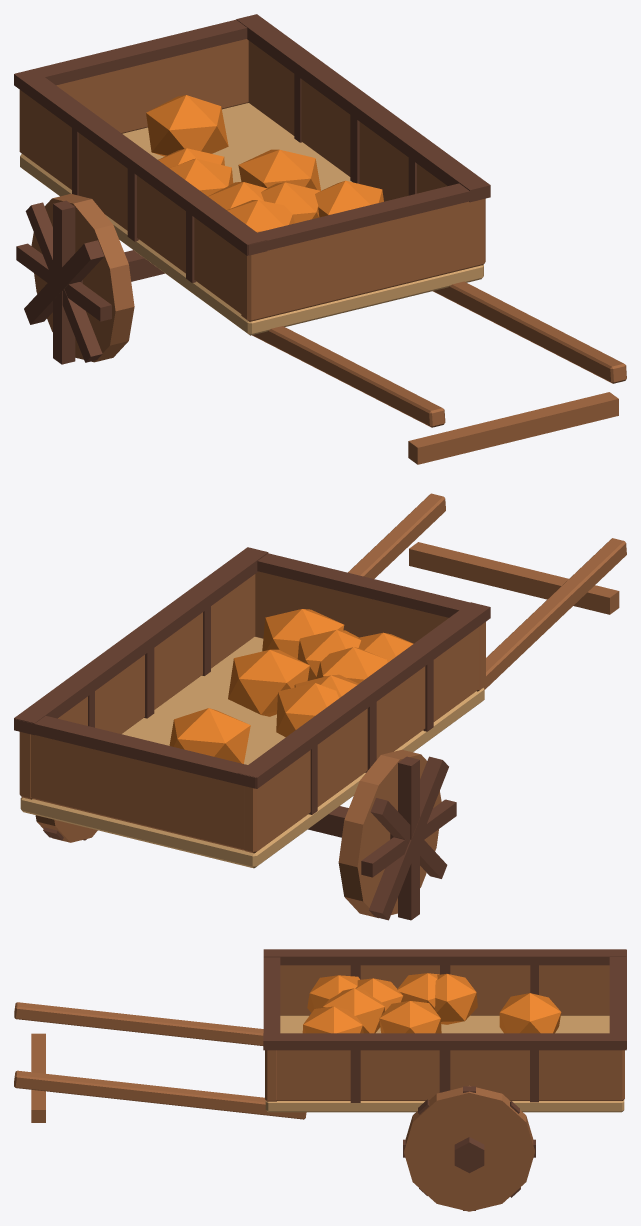
Rendered from Cart_Pumpkin.fbx.
3 views of the same model, one above another, from view 1: azimuth 30°, elevation 25°; view 2: azimuth 150°, elevation 25°; view 3: azimuth 270°, elevation 25° (orthographic). The views are drawn at different scales.
Parts seen in each view (by area): view 1: Cart_Pumpkin; view 2: Cart_Pumpkin; view 3: Cart_Pumpkin.
Part boxes in pixels (<box>): Cart_Pumpkin: <box>14,14,626,464</box>; Cart_Pumpkin: <box>14,493,626,920</box>; Cart_Pumpkin: <box>14,949,626,1211</box>.
Size of the model in its own units: 1.97 by 1.05 by 3.77.
